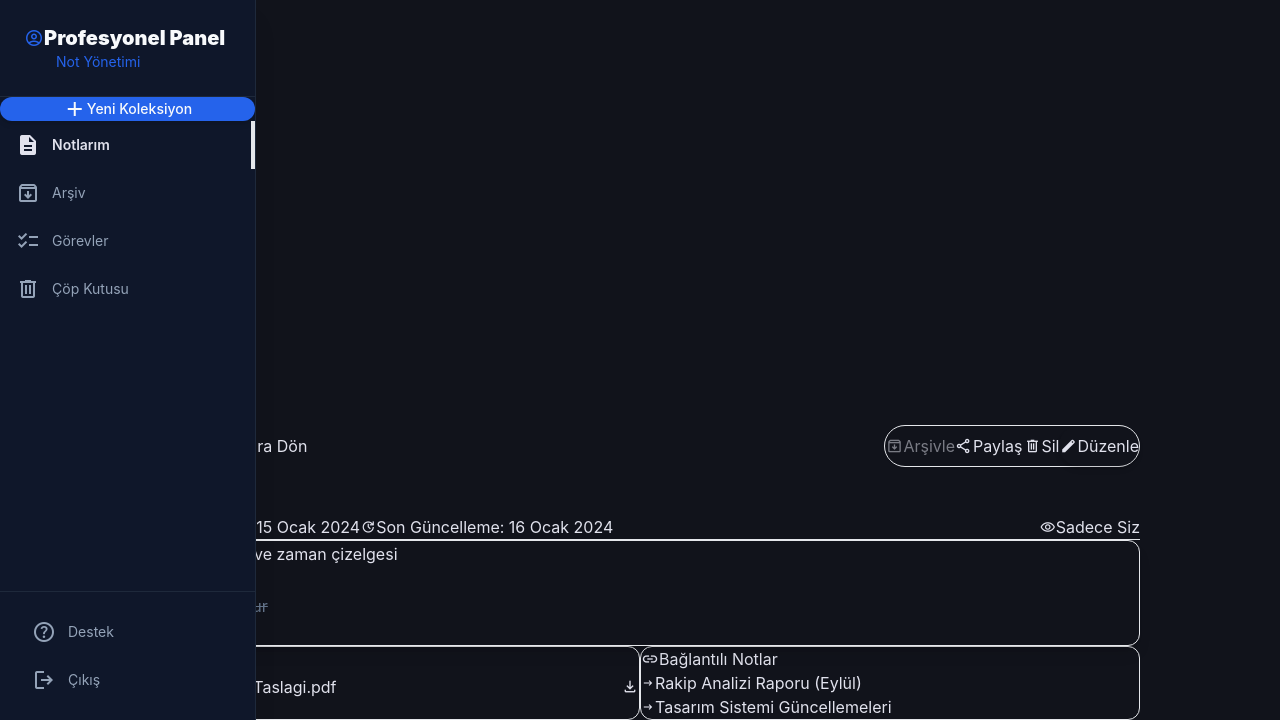
Test: NotDetayi › shows delete confirmation when delete clicked
(page scrolled)
Click the text "Sil". click: click(1050, 446)
box: x1=1041 y1=434 x2=1059 y2=458
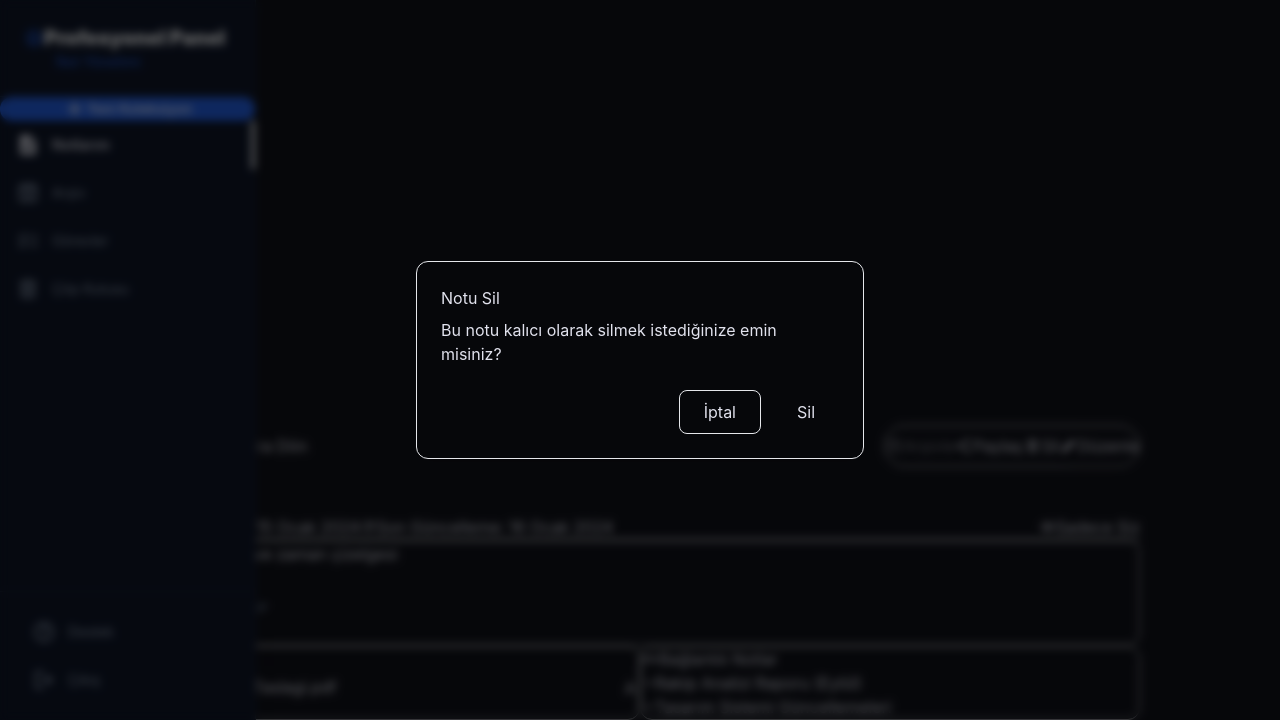
Result: the heading "Notu Sil" is shown at x1=441 y1=288 x2=500 y2=308
Result: the text "Bu notu kalıcı olarak silmek istediğinize emin misiniz?" is shown at x1=441 y1=320 x2=777 y2=364
